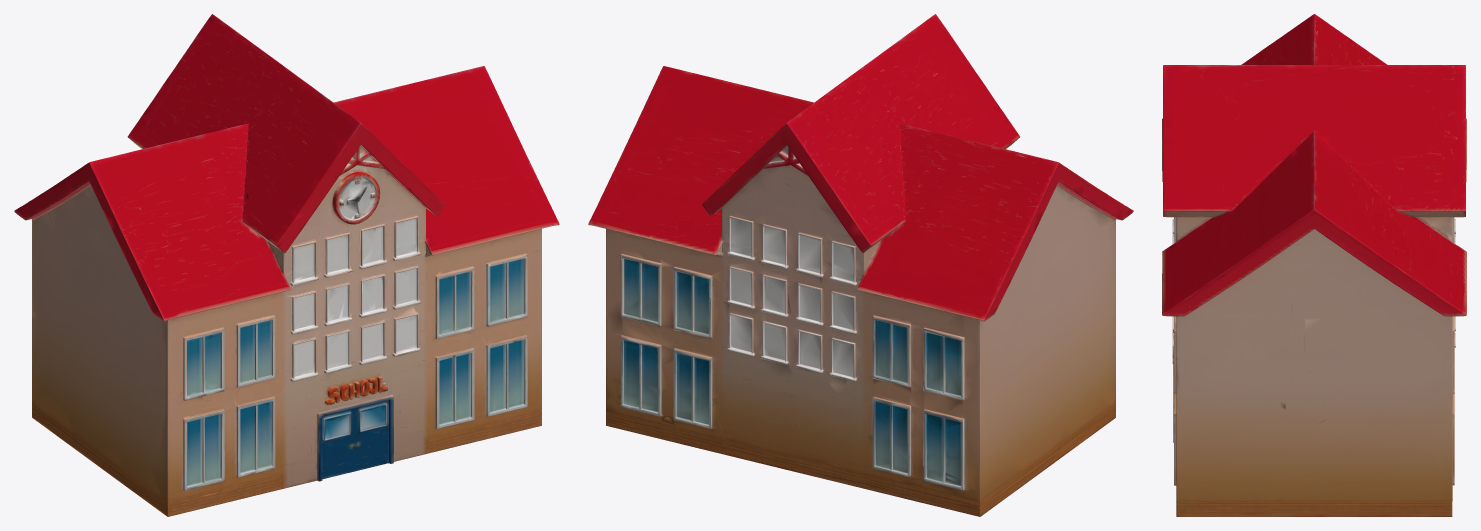
The model's file is school_level2.glb.
3 renders of one model, left to right at view 1: azimuth 30°, elevation 25°; view 2: azimuth 150°, elevation 25°; view 3: azimuth 270°, elevation 25°, orthographic.
Visible parts, largest first — view 1: material; view 2: material; view 3: material.
Part boxes in pixels (left/top/right/bottom): material: left=14, top=14, right=559, bottom=516; material: left=588, top=14, right=1133, bottom=516; material: left=1162, top=14, right=1466, bottom=516.
Size of the model in its own units: 0.855 by 0.7295 by 0.5612.
1 material, 1 textured.
